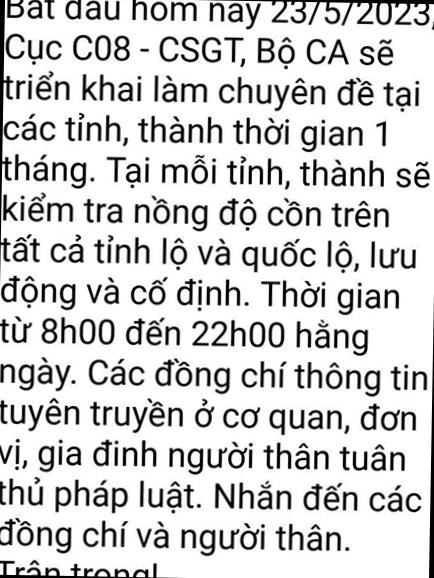text: (1, 147, 434, 197), (0, 352, 432, 401), (0, 472, 424, 521), (0, 230, 421, 278), (3, 66, 422, 114), (0, 394, 418, 440), (0, 433, 408, 480), (1, 189, 392, 237), (0, 272, 403, 318), (0, 309, 370, 357), (3, 27, 396, 72), (3, 108, 391, 152), (0, 513, 353, 560), (5, 0, 434, 32), (0, 556, 160, 577)
